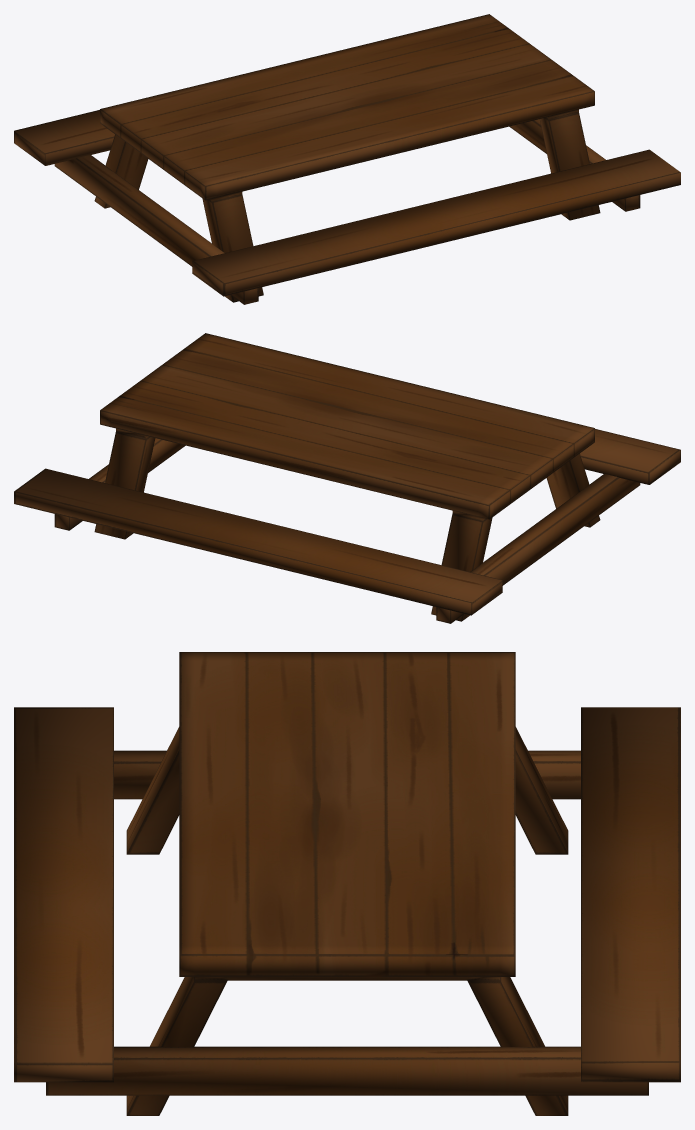
File: Bench 1.fbx
3 views of the same model, one above another, from view 1: azimuth 30°, elevation 25°; view 2: azimuth 150°, elevation 25°; view 3: azimuth 270°, elevation 25° (orthographic). The views are drawn at different scales.
Visible parts, largest first — view 1: Bench.001; view 2: Bench.001; view 3: Bench.001.
Part boxes in pixels (left/top/right/bottom): Bench.001: left=14, top=14, right=680, bottom=304; Bench.001: left=14, top=333, right=680, bottom=623; Bench.001: left=14, top=652, right=680, bottom=1115.
Size of the model in its own units: 232 by 51.78 by 184.
Materials: 1 (1 with a texture image).
